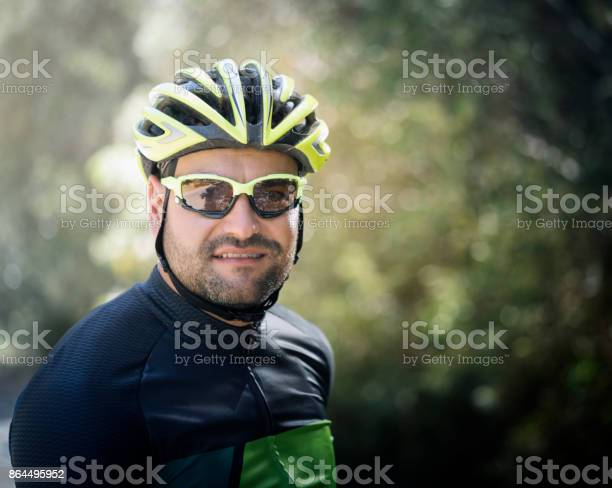helmet: (135, 59, 330, 321)
